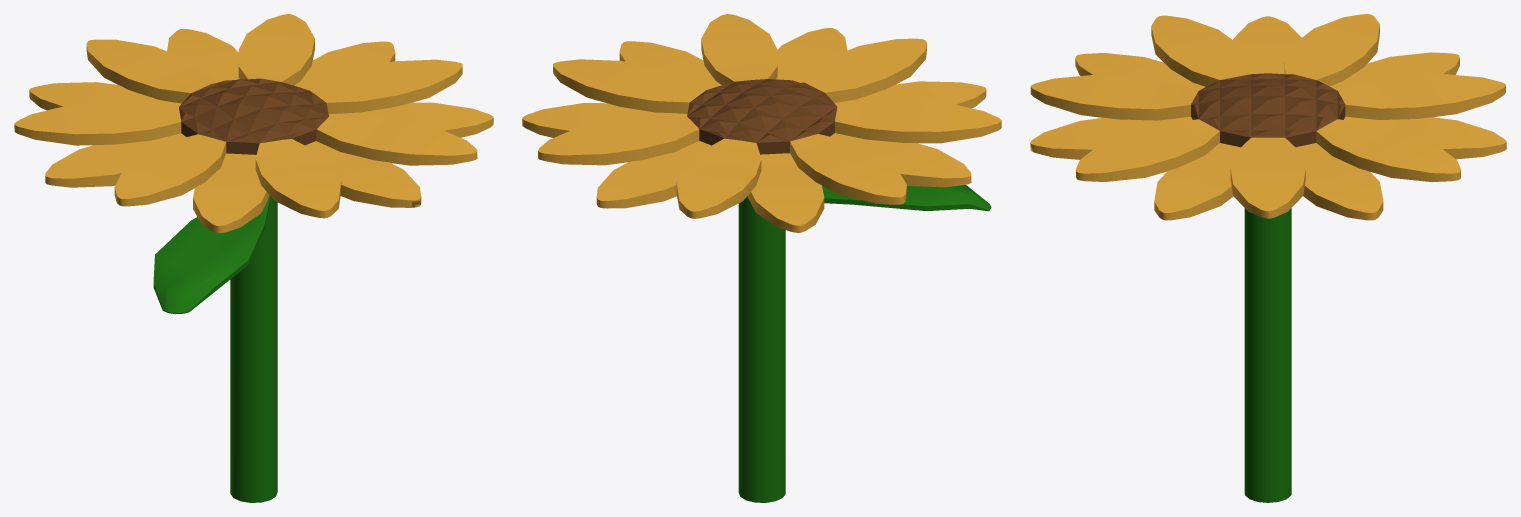
Rendered from Sunflower.fbx.
3 renders of one model, left to right at view 1: azimuth 30°, elevation 25°; view 2: azimuth 150°, elevation 25°; view 3: azimuth 270°, elevation 25°, orthographic.
Parts seen in each view (by area): view 1: Cylinder.001, Cylinder, Petals; view 2: Cylinder.001, Cylinder, Petals; view 3: Cylinder.001, Cylinder, Petals.
Boxes of the visible parts, x1,y1,x2,y2 form: Cylinder.001: [14, 14, 493, 233]; Cylinder: [153, 195, 277, 502]; Petals: [179, 78, 328, 154]; Cylinder.001: [522, 14, 1001, 232]; Cylinder: [738, 184, 991, 502]; Petals: [687, 79, 837, 154]; Cylinder.001: [1030, 14, 1506, 220]; Cylinder: [1244, 208, 1291, 502]; Petals: [1191, 73, 1345, 147].
Bounding box in the file's own units: 632 × 572 × 617.
